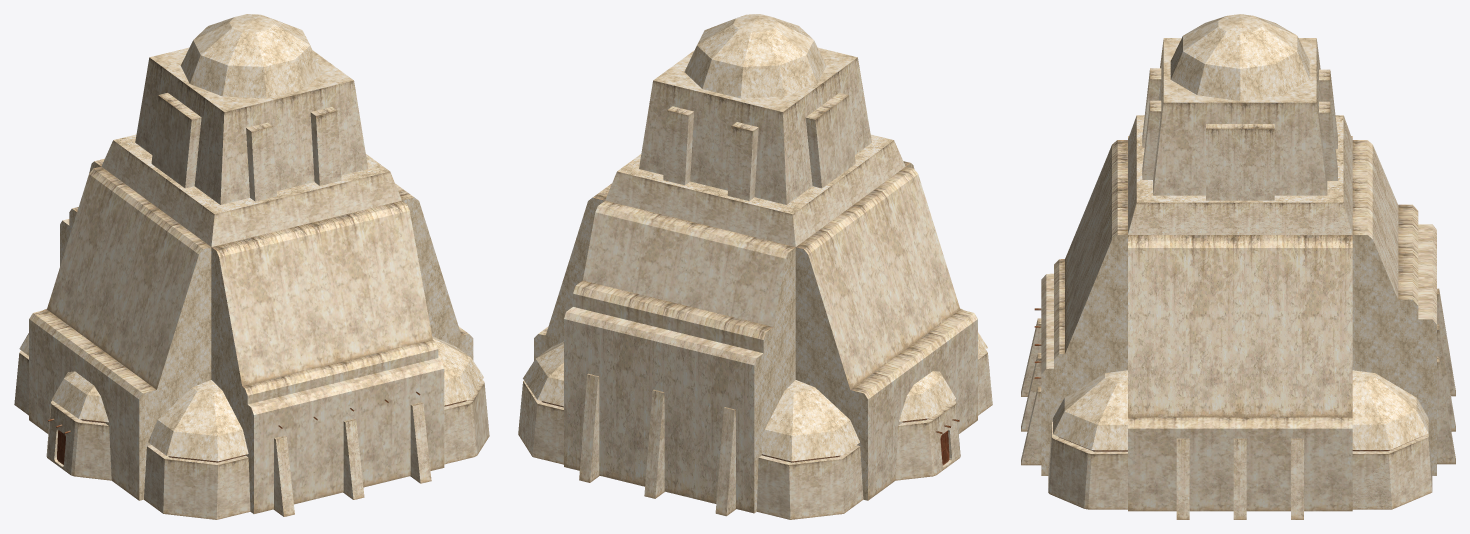
File: thm_tato_imprv_building_s11_l1.fbx
3 renders of one model, left to right at view 1: azimuth 30°, elevation 25°; view 2: azimuth 150°, elevation 25°; view 3: azimuth 270°, elevation 25°, orthographic. The views are drawn at different scales.
Visible parts, largest first — view 1: mesh_node; view 2: mesh_node; view 3: mesh_node.
Boxes of the visible parts, x1,y1,x2,y2 form: mesh_node: (14,14,489,519); mesh_node: (518,14,992,519); mesh_node: (1021,14,1455,519).
Size of the model in its own units: 39.2 by 39.57 by 38.23.
